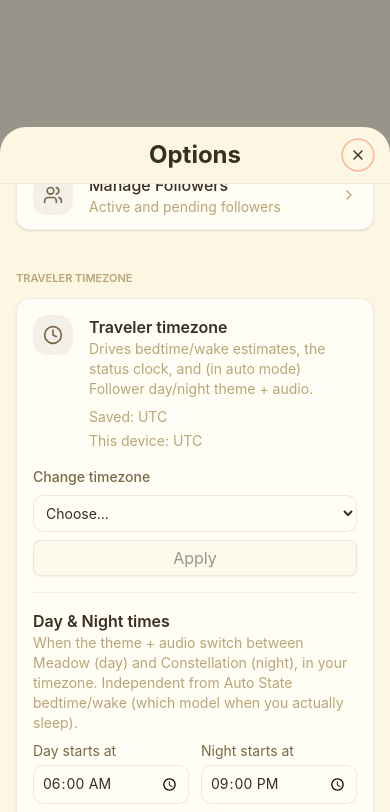
OptionsSheet traveler timezone › rejects an invalid IANA string from the Other input
This screenshot has width=390, height=812.
(page scrolled)
Select "Other (type IANA name)…" in the dropdown labelled "Change timezone". click: (195, 514)
box: [33,495,357,532]
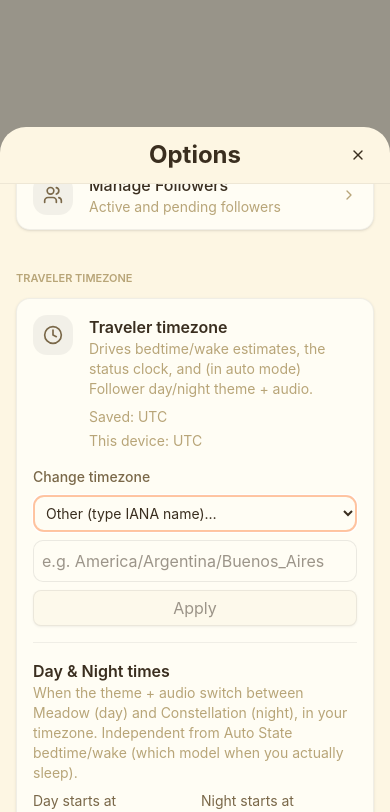
Type "Not/A_Real_Zone" into the field with placeholder "e.g. America/Argentina/Buenos_Aires". click: (195, 561)
box: [33,540,357,582]
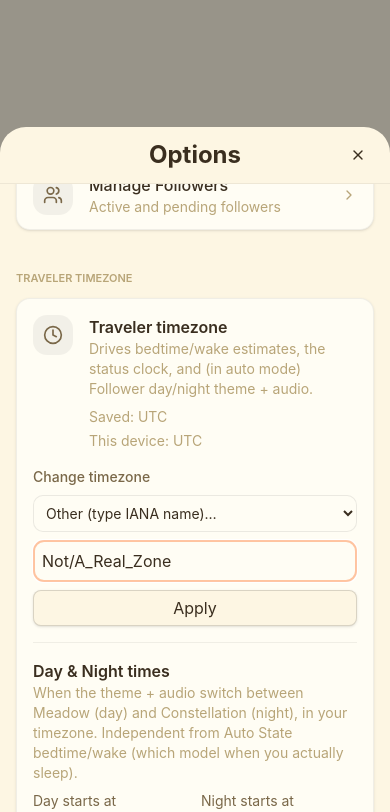
Click the button "Apply". click: (195, 608)
box: [33,590,357,626]
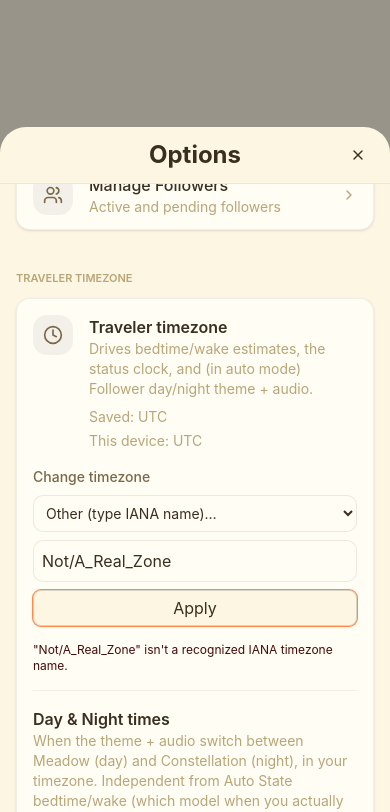
expect the message shows "isn't a recognized IANA timezone": met, box [33,642,333,673]
